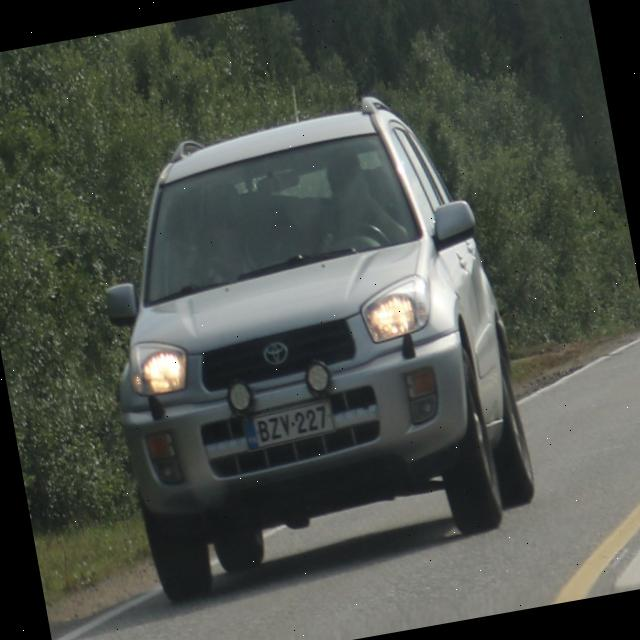License-plate: (238, 397, 337, 452)
